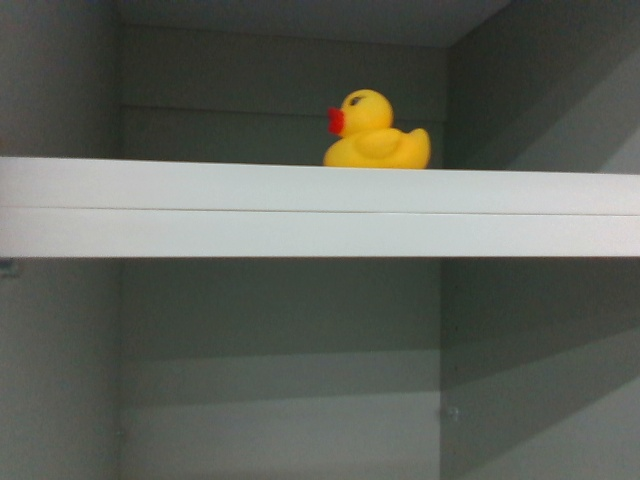duck: (317, 81, 433, 176)
